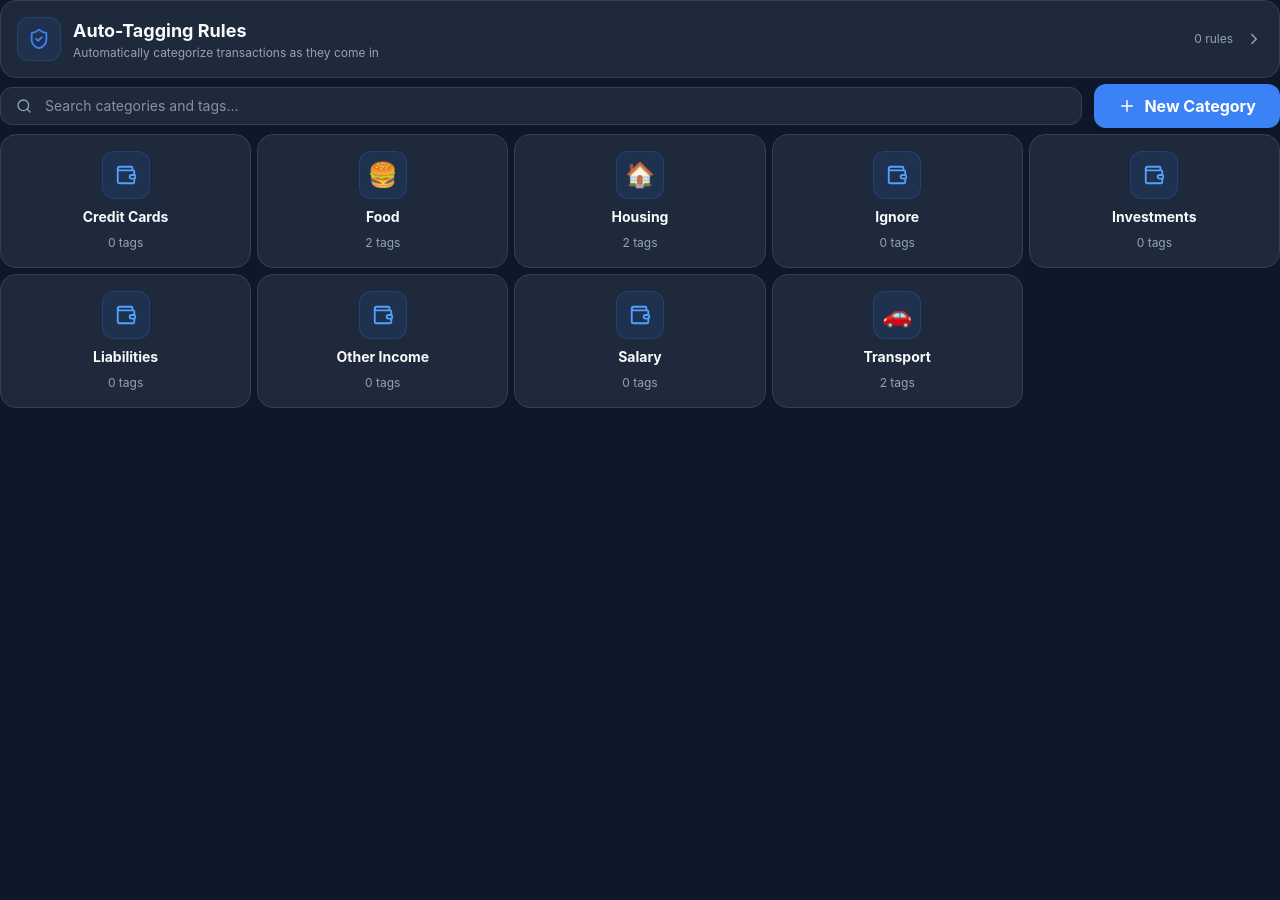
Test: Categories › category grid › displays tags inside the detail panel when a card is clicked
Click the button with test id "category-card-Food". click: (383, 201)
box: [257,134,508,268]
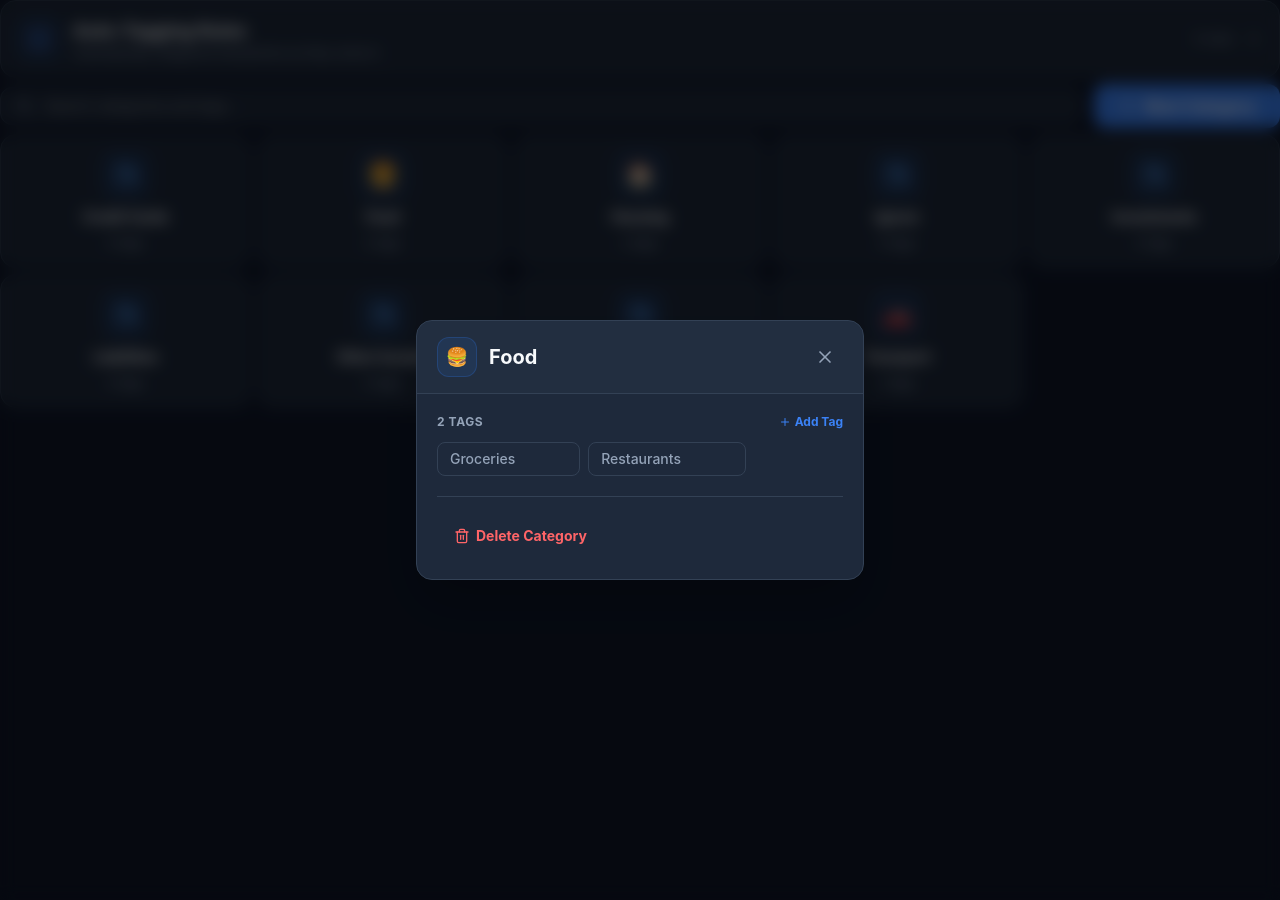
Now the text "Groceries" is shown, box [450,449,515,469]
Now the text "Restaurants" is shown, box [601,449,681,469]
